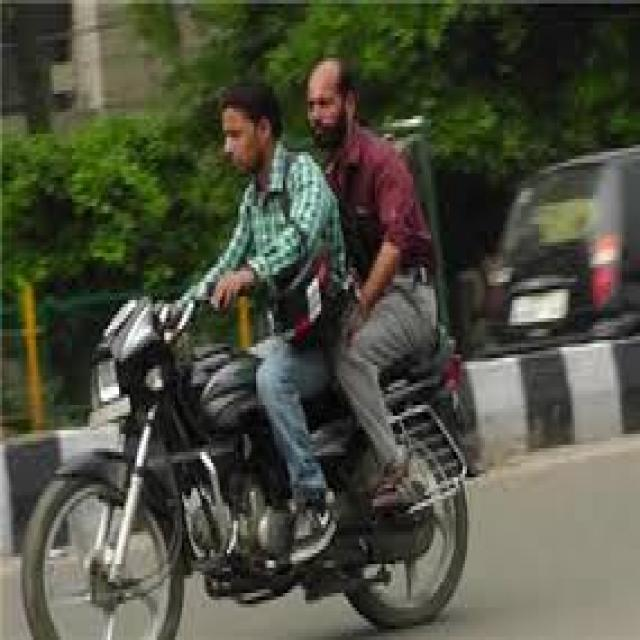Not Wearing Helmet: (182, 43, 294, 219)
